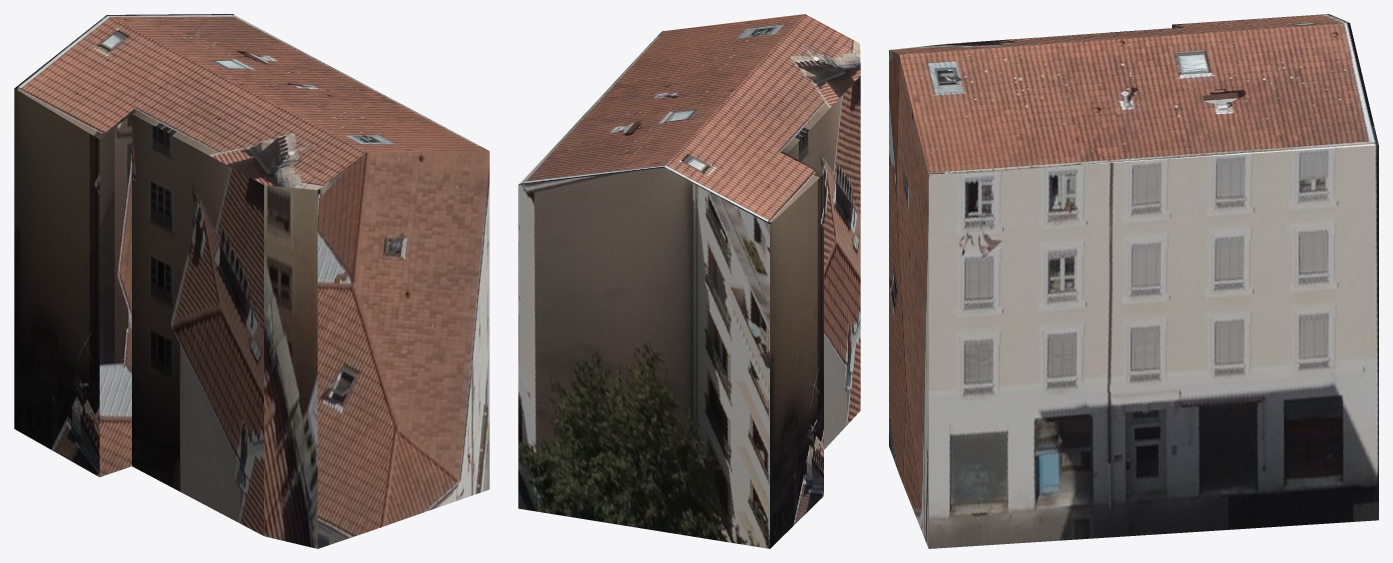
3 views of the same model, side by side, from view 1: azimuth 30°, elevation 25°; view 2: azimuth 150°, elevation 25°; view 3: azimuth 270°, elevation 25° (orthographic). The views are drawn at different scales.
Parts seen in each view (by area): view 1: Z_UP; view 2: Z_UP; view 3: Z_UP.
Boxes of the visible parts, left/top/right/bottom form: Z_UP: left=14, top=14, right=489, bottom=548; Z_UP: left=518, top=14, right=860, bottom=548; Z_UP: left=889, top=14, right=1378, bottom=548.
Bounding box in the file's own units: 14.49 × 17.95 × 18.88.
Materials: 2 (1 with a texture image).
